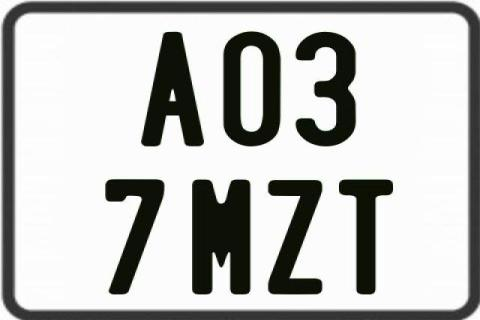0: (296, 30, 360, 146), (105, 177, 167, 293), (221, 32, 281, 150)
A: (138, 30, 206, 146)
M: (190, 178, 251, 298)
T: (338, 177, 394, 293)
Z: (267, 178, 324, 294)
